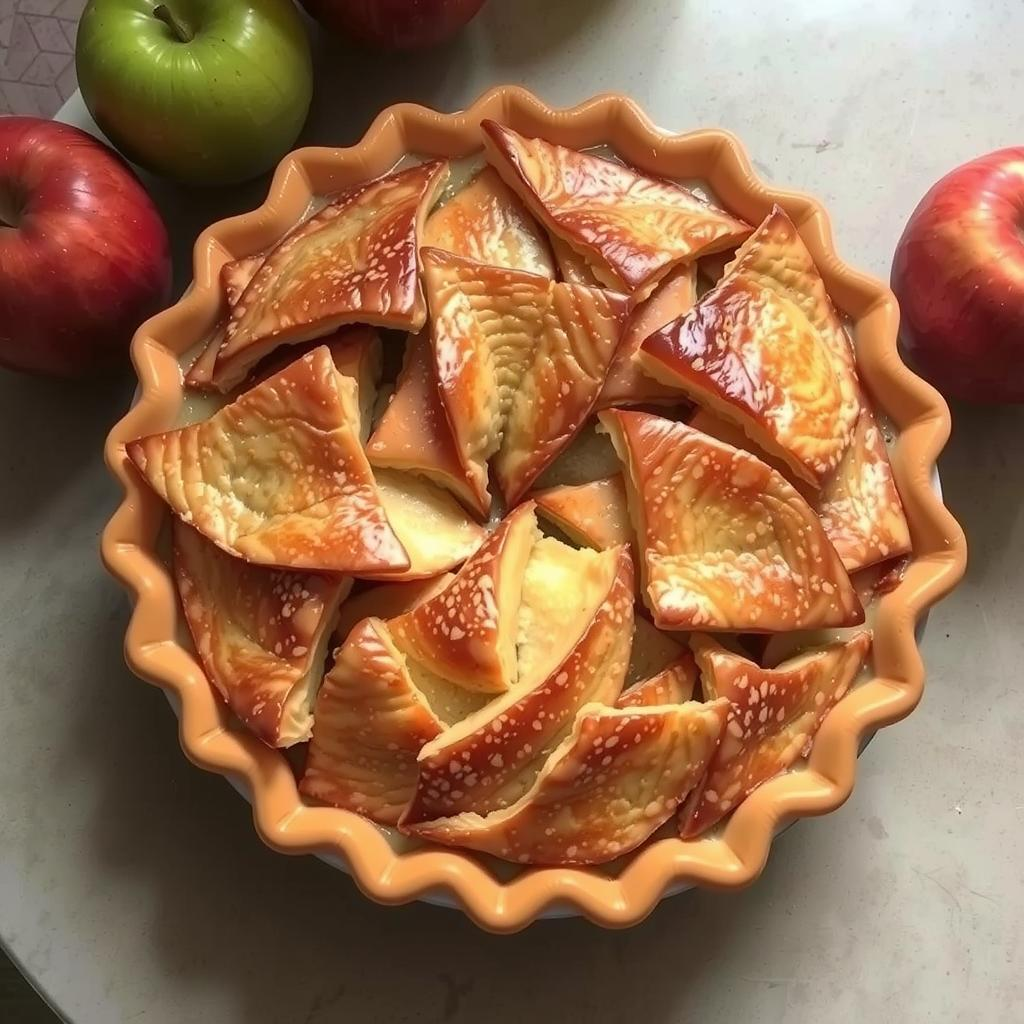cake: (94, 77, 980, 943)
